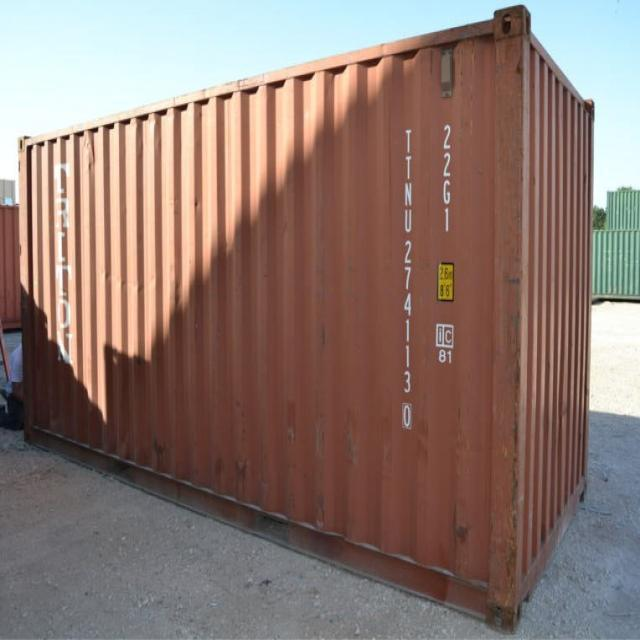container_number_v: (388, 112, 429, 455)
